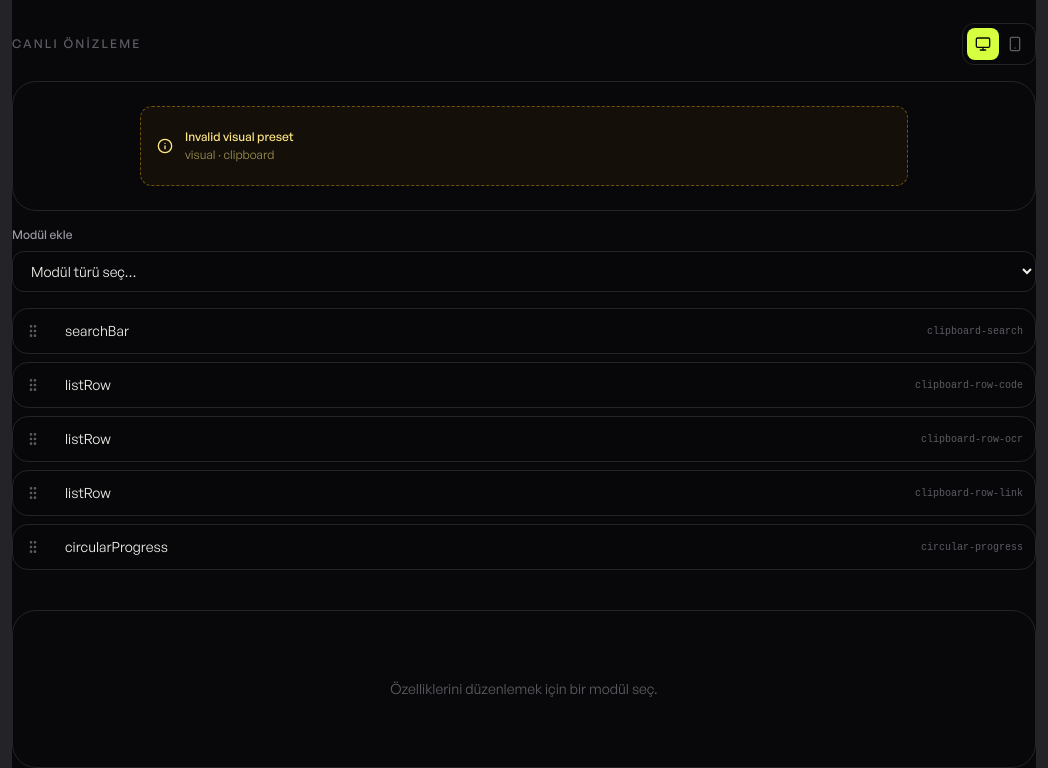
Test: VisualBuilder canonical module errors › shows the selected module and field when progress is invalid
The image size is (1048, 768).
(page scrolled)
Click the button "circularProgress circular-progress": (116,546) [53, 525, 1035, 569]
(page scrolled)
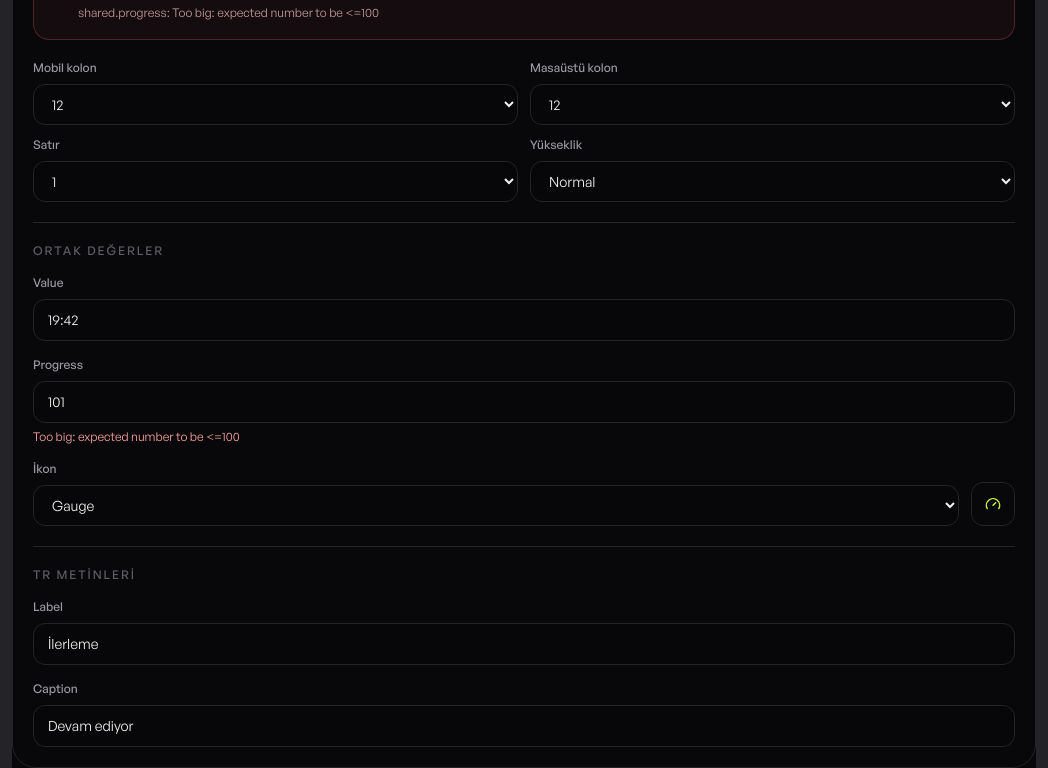
expect the text "circularProgress modülü geçersiz" shows "shared.progress": met, box [78, 5, 379, 20]
